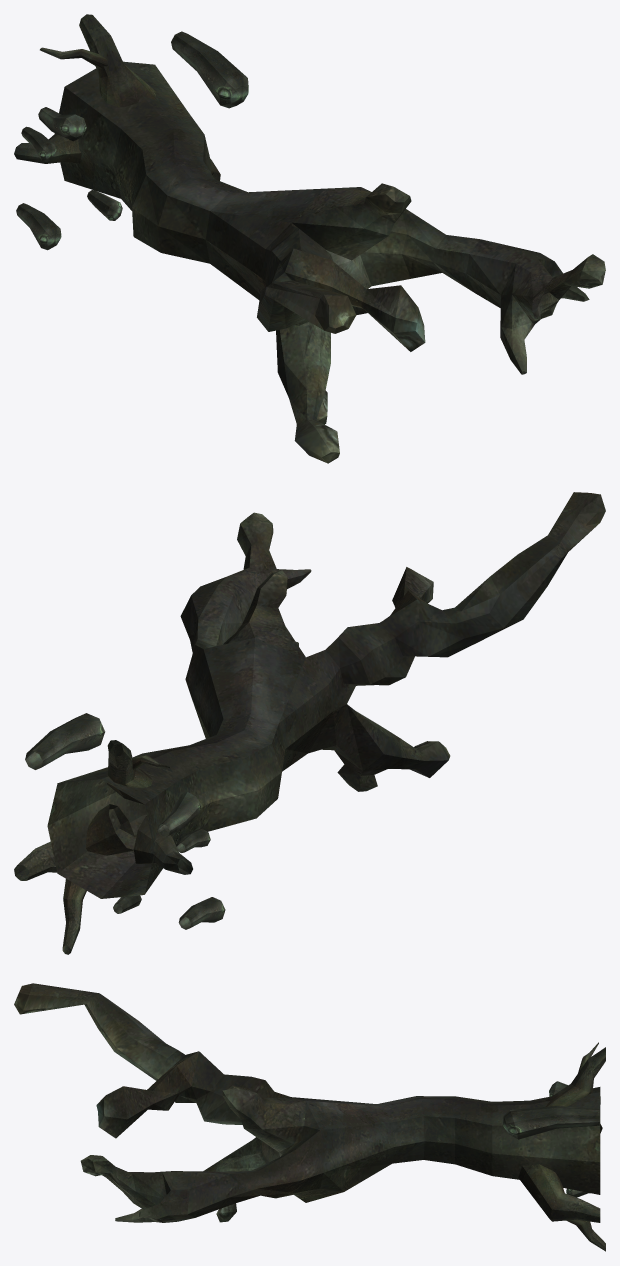
The model's file is huodong_fuben_662_zhiwu01.obj.
The picture shows the model from 3 angles, top to bottom: view 1: azimuth 30°, elevation 25°; view 2: azimuth 150°, elevation 25°; view 3: azimuth 270°, elevation 25°; orthographic projection. The views are drawn at different scales.
Visible parts, largest first — view 1: huodong_fuben_662_zhiwu01; view 2: huodong_fuben_662_zhiwu01; view 3: huodong_fuben_662_zhiwu01.
Part boxes in pixels (x1=…): huodong_fuben_662_zhiwu01: x1=14, y1=14, x2=605, y2=463; huodong_fuben_662_zhiwu01: x1=14, y1=492, x2=605, y2=954; huodong_fuben_662_zhiwu01: x1=14, y1=983, x2=605, y2=1251.
Size of the model in its own units: 298 by 208 by 561.
Materials: 2 (2 with a texture image).
